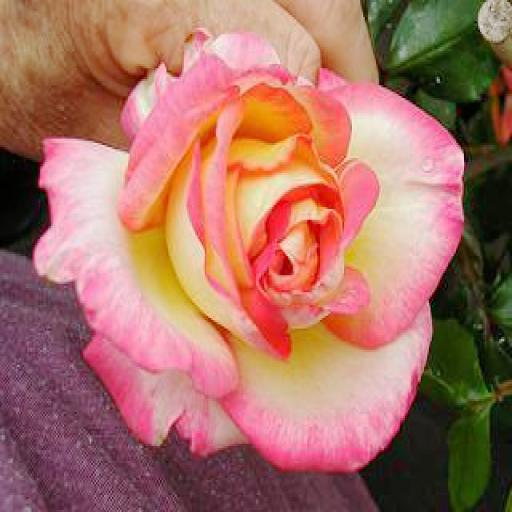rose: (42, 38, 464, 476)
